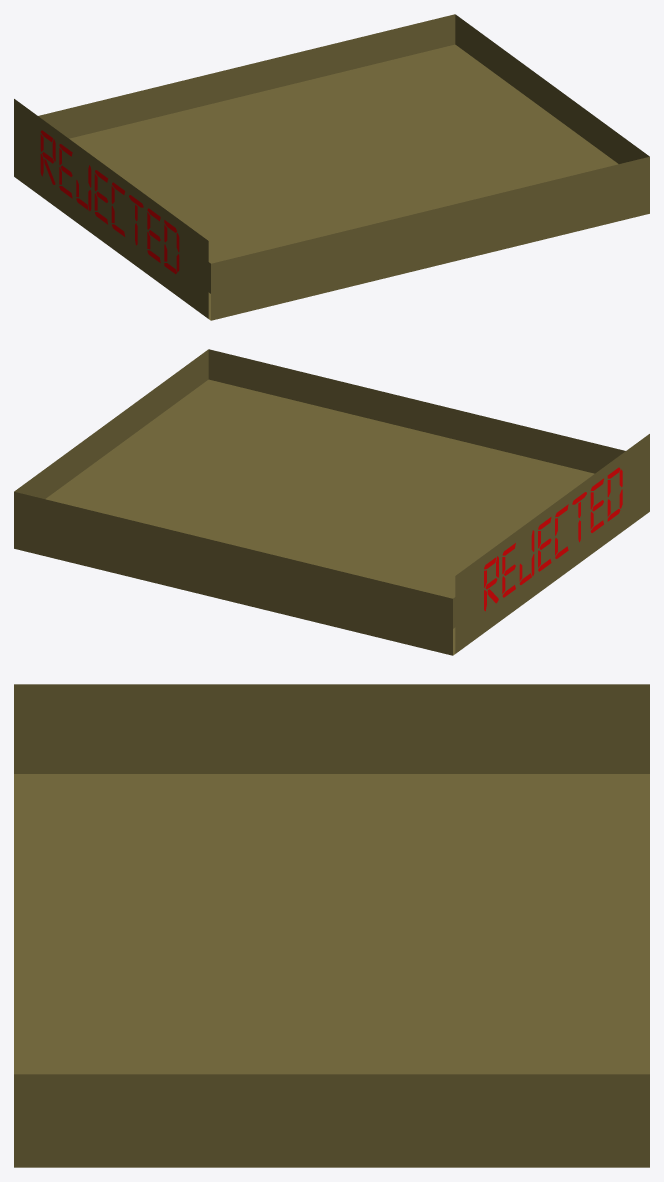
File: RejectedTray.fbx
3 views of the same model, one above another, from view 1: azimuth 30°, elevation 25°; view 2: azimuth 150°, elevation 25°; view 3: azimuth 270°, elevation 25° (orthographic). The views are drawn at different scales.
Parts seen in each view (by area): view 1: Cube, Text; view 2: Cube, Text; view 3: Cube.
Boxes of the visible parts, left/top/right/bottom form: Cube: left=14, top=14, right=649, bottom=320; Text: left=40, top=130, right=179, bottom=274; Cube: left=14, top=349, right=649, bottom=655; Text: left=484, top=467, right=622, bottom=611; Cube: left=14, top=684, right=649, bottom=1167.
Size of the model in its own units: 1623 by 282 by 1237.
